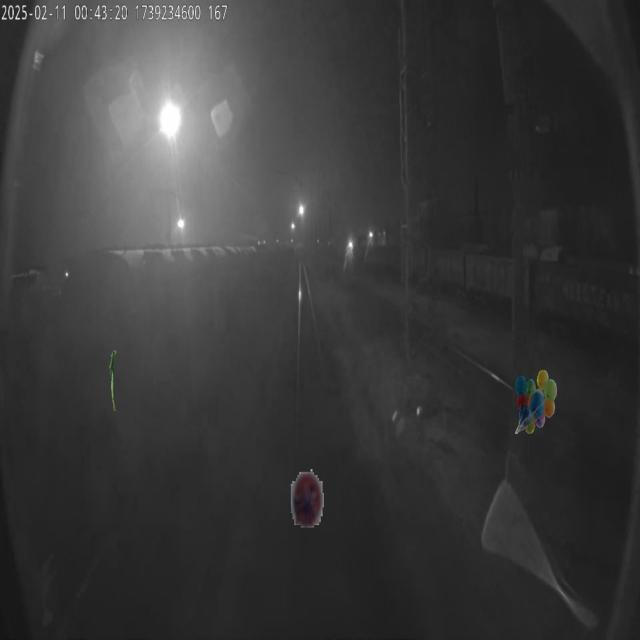balloon: (515, 370, 557, 434)
floating object: (291, 463, 324, 528), (110, 349, 116, 414)
